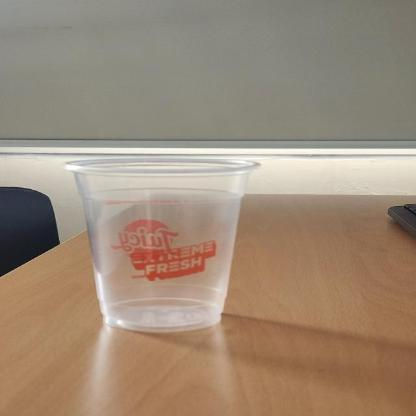Plastic Cup: (61, 156, 265, 332)
